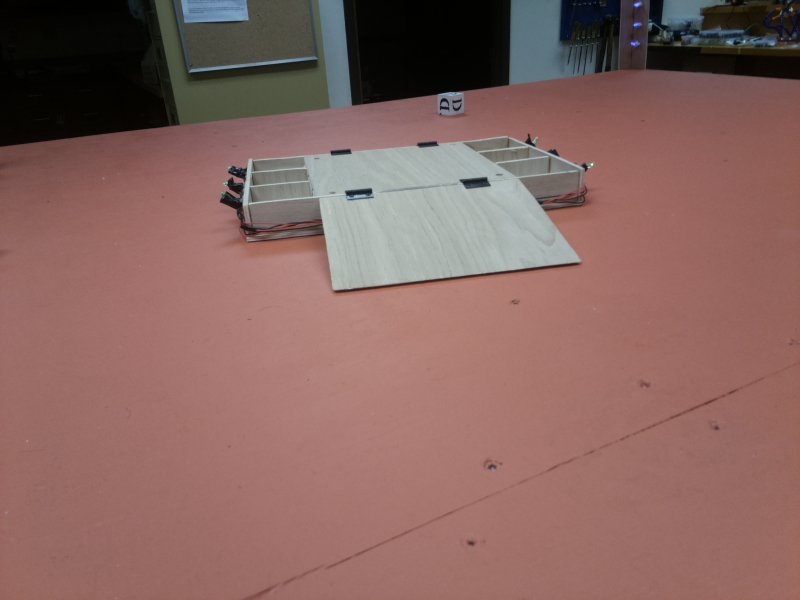blockD: (434, 90, 467, 116)
side: (508, 117, 602, 176), (222, 159, 251, 239)
slope: (317, 176, 581, 296), (309, 142, 462, 151)
